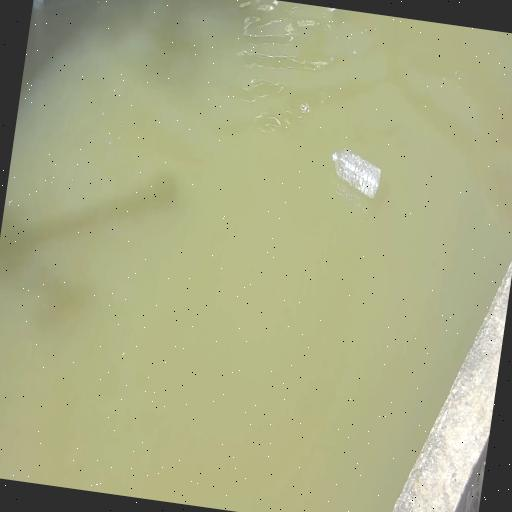plastic: (326, 147, 385, 203)
